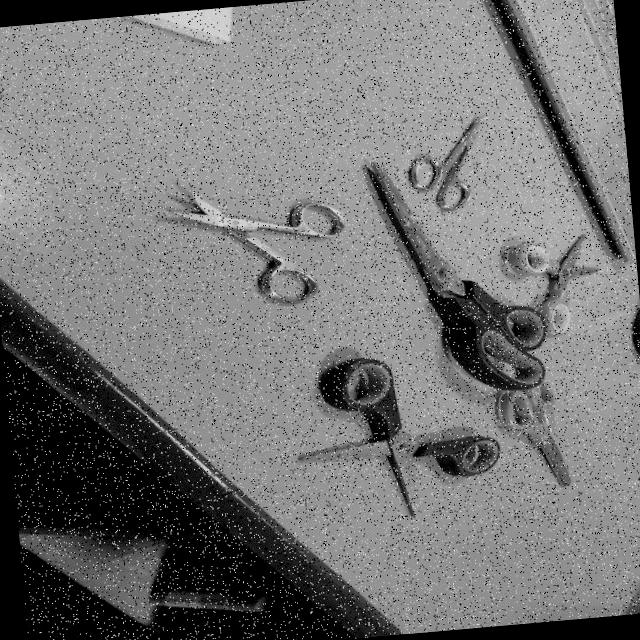scissors: (351, 153, 551, 392), (281, 349, 518, 528), (166, 172, 359, 315), (501, 231, 608, 339), (399, 110, 502, 216), (493, 374, 578, 491)
